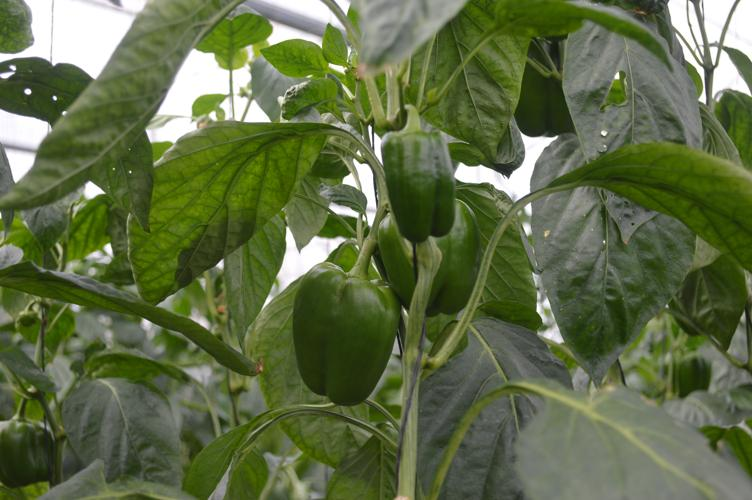BellPepper: (294, 265, 398, 404), (374, 201, 482, 315), (380, 132, 461, 238), (517, 36, 576, 136), (2, 420, 57, 490)
